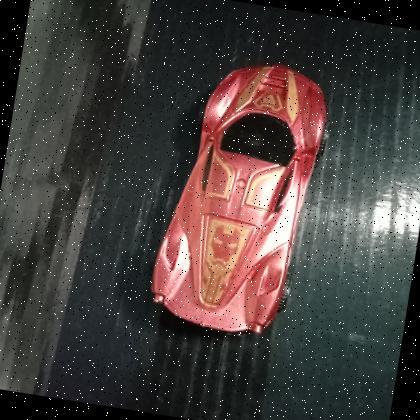Car: (150, 65, 328, 335)
